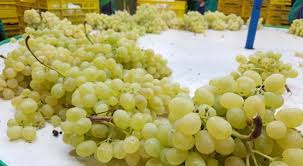Green grapes: (141, 83, 300, 165), (38, 62, 158, 157)
